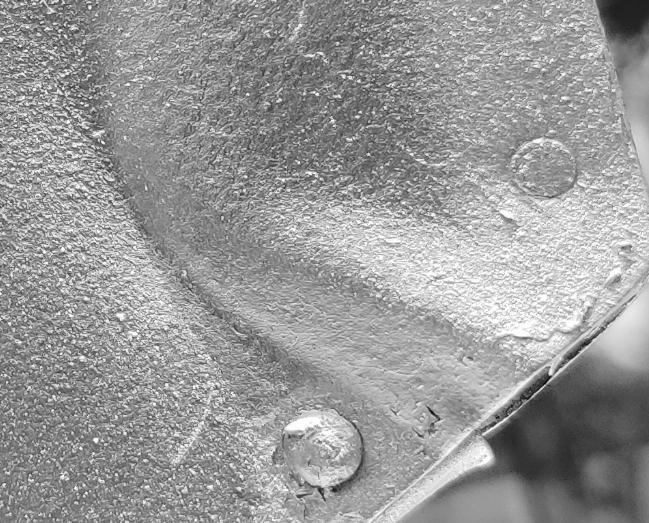dent: (1, 1, 649, 523)
